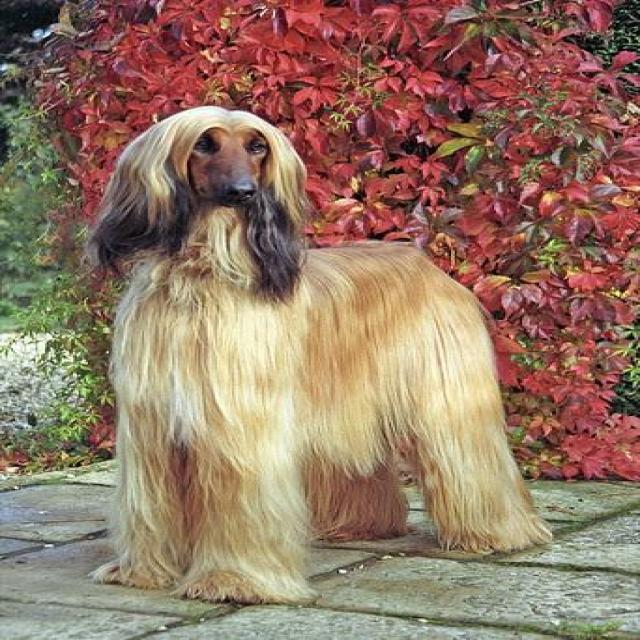afghan_hound: (84, 100, 558, 609)
